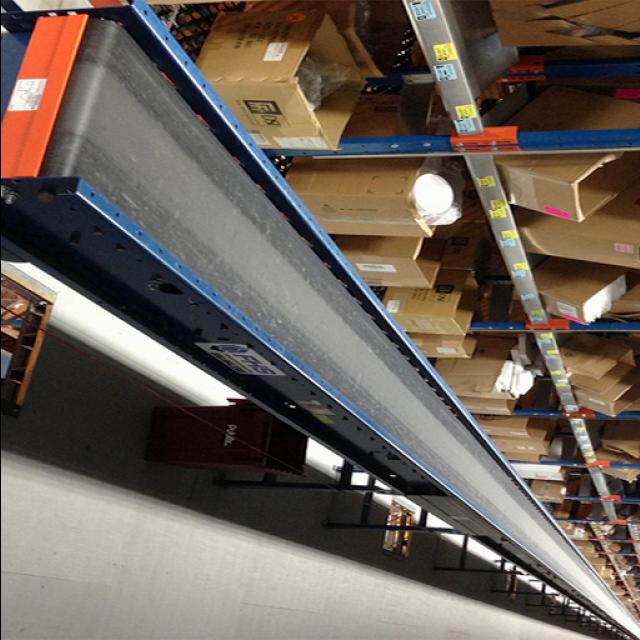conveyor: (40, 6, 640, 640)
